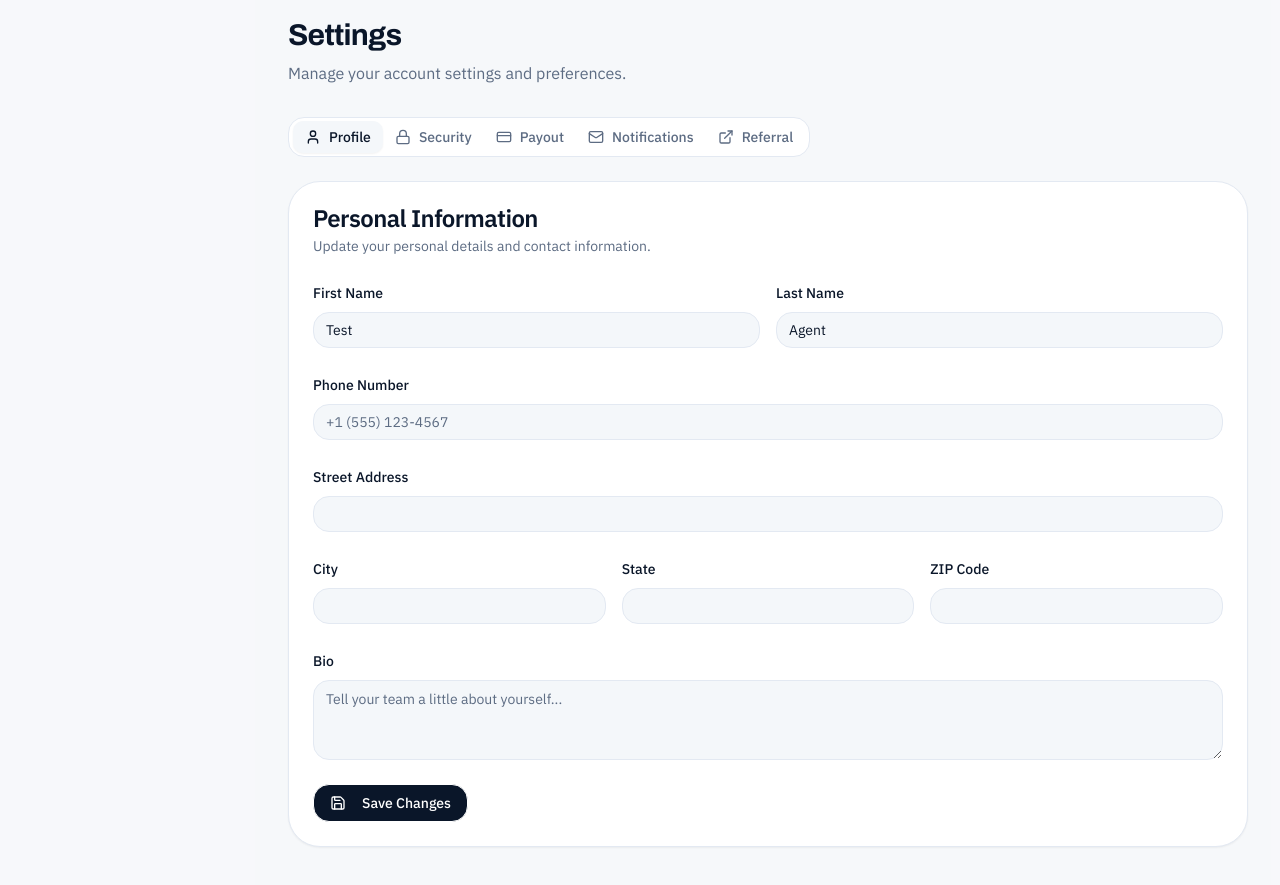
Test: Settings notifications: unsaved changes indicator › shows the unsaved-changes indicator after a toggle is changed
The width and height of the screenshot is (1280, 885).
Click the tab with test id "tab-notifications" at (641, 137), box left=576, top=121, right=706, bottom=153
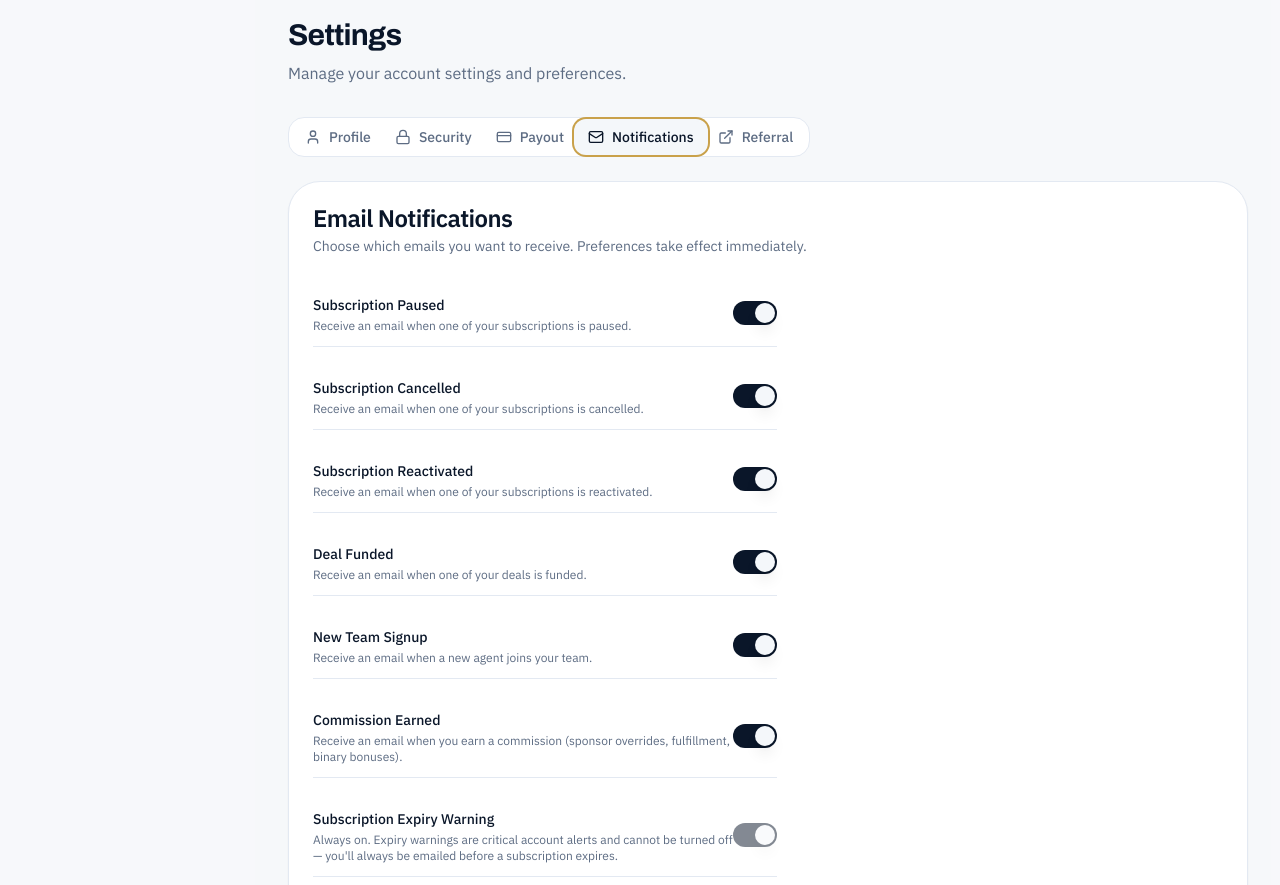
Click the switch with test id "toggle-email-on-commission-earned" at (755, 736), box left=733, top=724, right=777, bottom=748
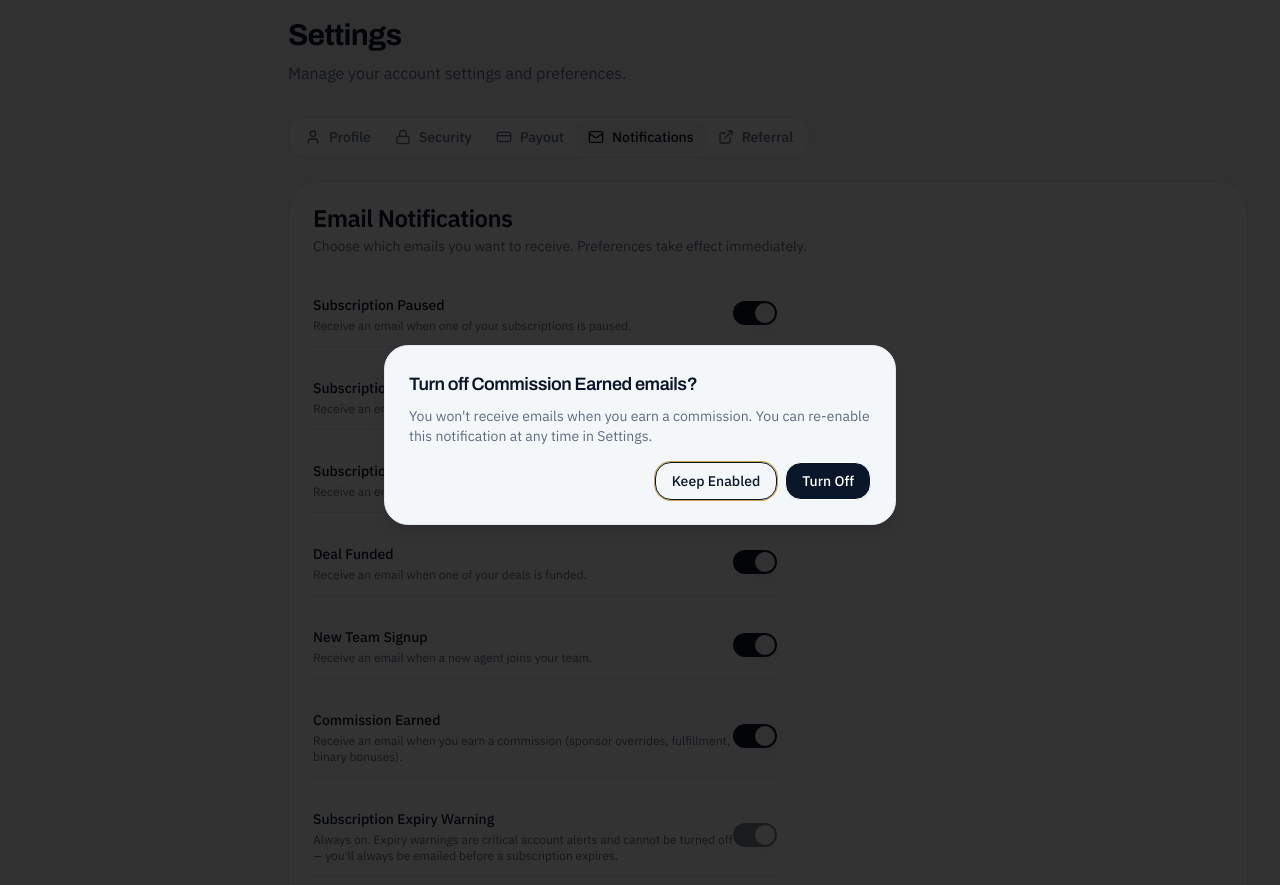
Click the button with test id "dialog-confirm-disable" at (828, 481), box left=785, top=462, right=871, bottom=500
(page scrolled)
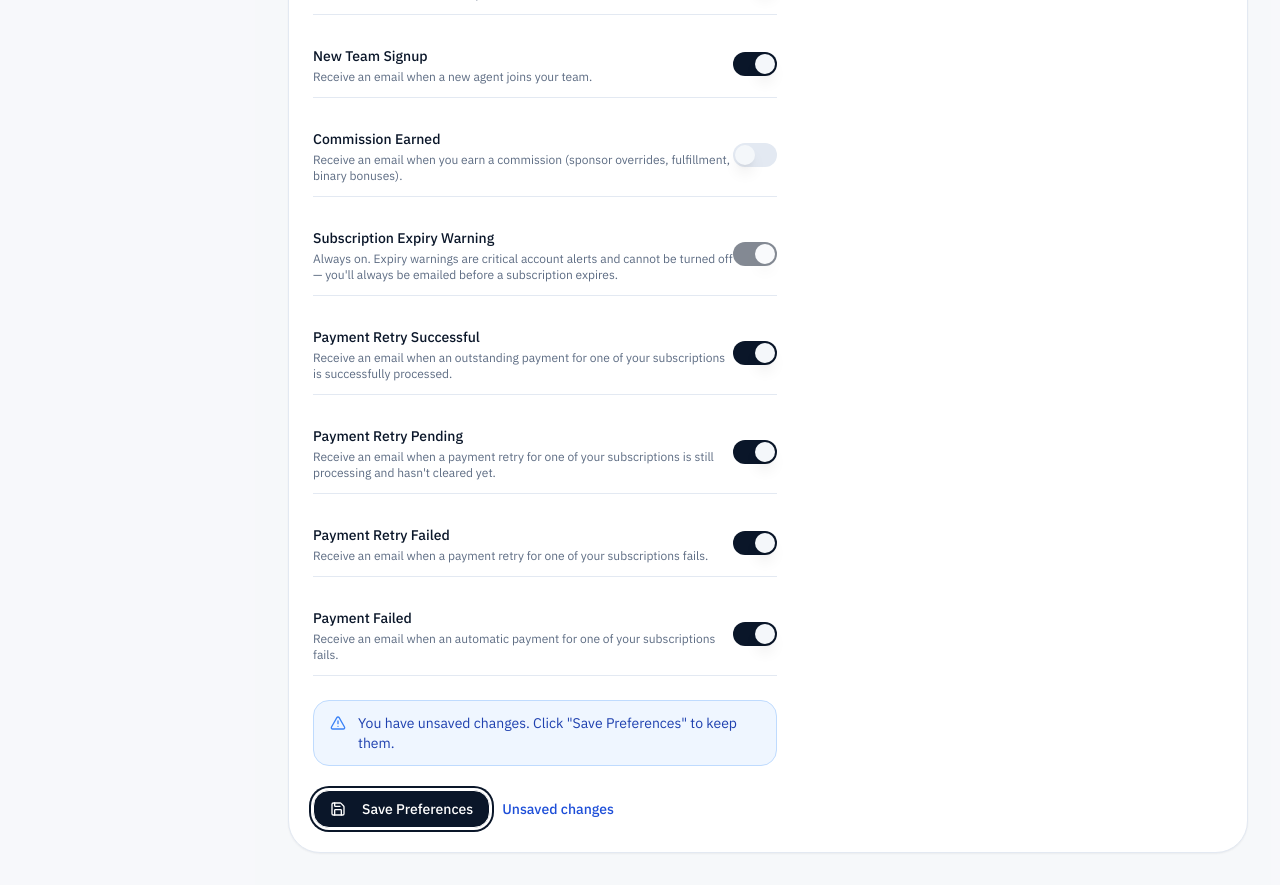
Result: the text "Unsaved changes" is shown at left=502, top=799, right=614, bottom=819
Result: the element with test id "warning-unsaved-notification-prefs" is shown at left=313, top=700, right=777, bottom=766
